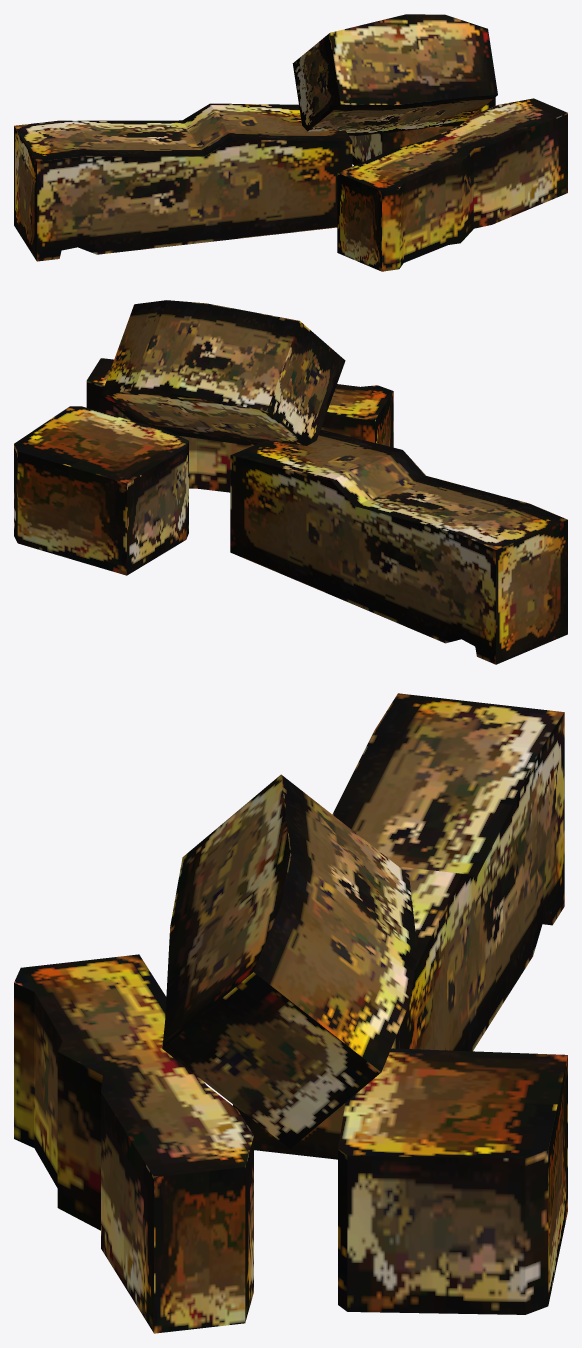
The model's file is stoneBricksA.fbx.
The picture shows the model from 3 angles, top to bottom: view 1: azimuth 30°, elevation 25°; view 2: azimuth 150°, elevation 25°; view 3: azimuth 270°, elevation 25°; orthographic projection. The views are drawn at different scales.
Parts seen in each view (by area): view 1: stoneBricksA; view 2: stoneBricksA; view 3: stoneBricksA.
Boxes of the visible parts, <box> form: stoneBricksA: <box>14,14,567,271</box>; stoneBricksA: <box>14,300,567,664</box>; stoneBricksA: <box>14,693,567,1333</box>.
Bounding box in the file's own units: 1.32 × 0.5031 × 0.6946.
1 material, 1 textured.
